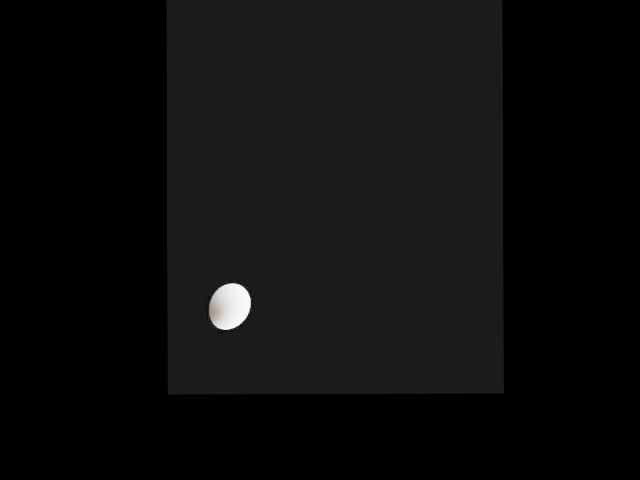egg: (209, 283, 250, 330)
